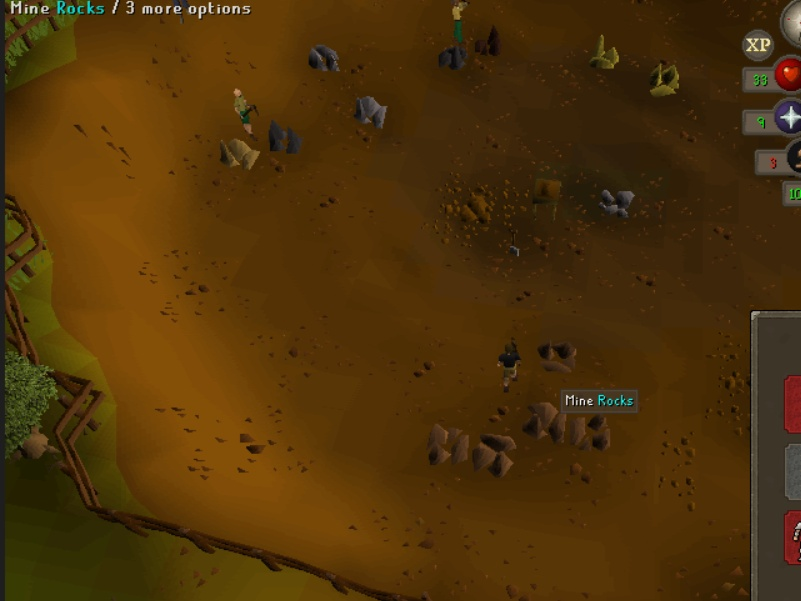clay: (213, 133, 266, 173)
copper: (470, 422, 521, 482), (568, 395, 619, 455), (426, 418, 472, 475), (519, 398, 568, 451), (536, 329, 585, 382)
gold: (645, 54, 685, 104), (586, 29, 625, 75)
iron: (475, 20, 510, 60)
tin: (303, 36, 348, 78), (346, 90, 391, 132)
